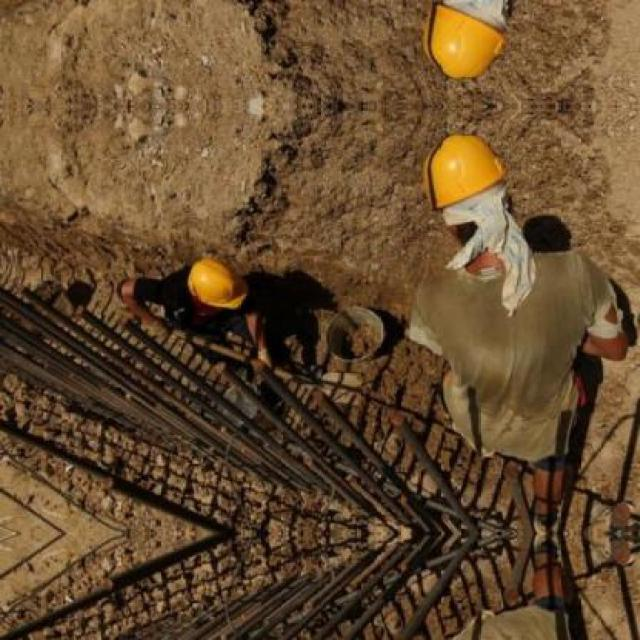helmet: (417, 128, 512, 250), (417, 0, 514, 85), (183, 254, 242, 312)
